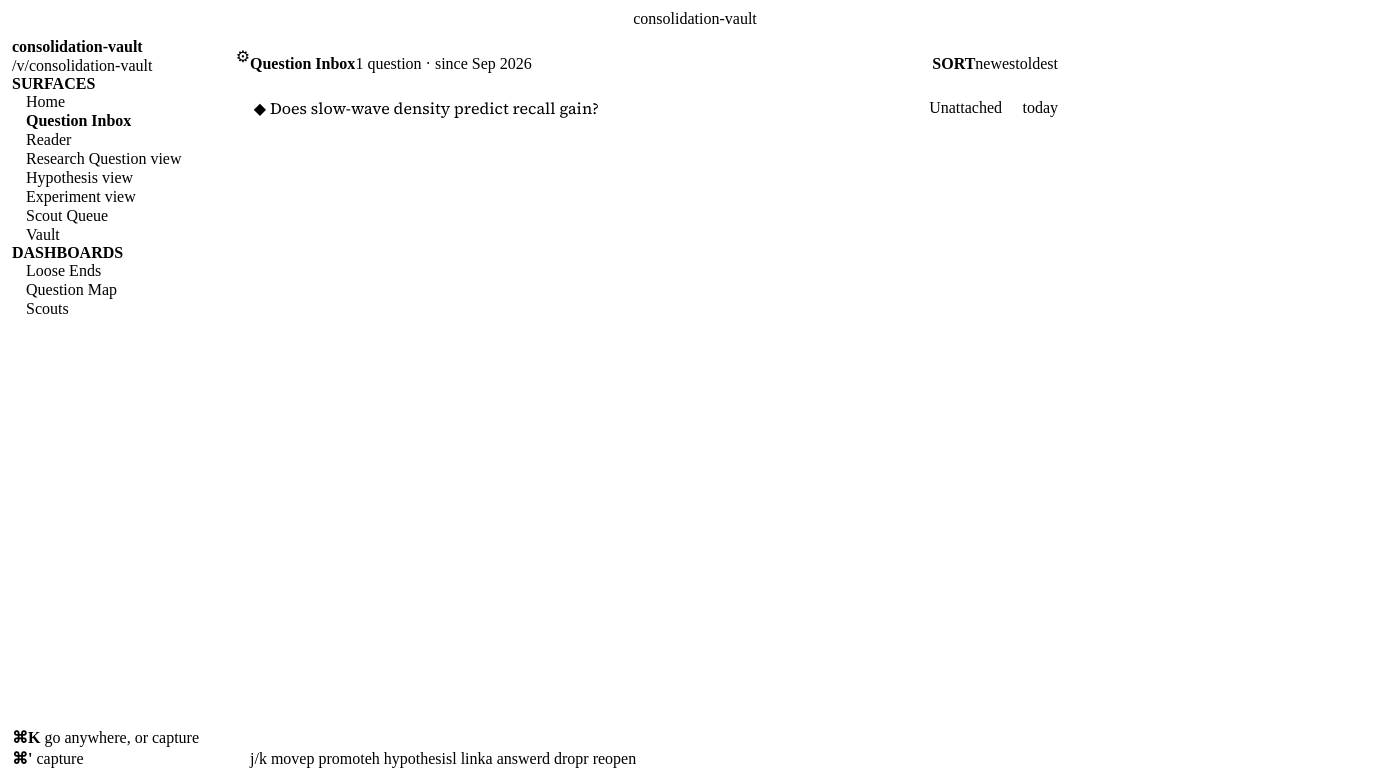
Scenario: answer in place › a refused answer shows its reason on the row and keeps the typing
This screenshot has width=1378, height=768.
Click the option.
click(434, 108)  # box [250,90,1058,126]
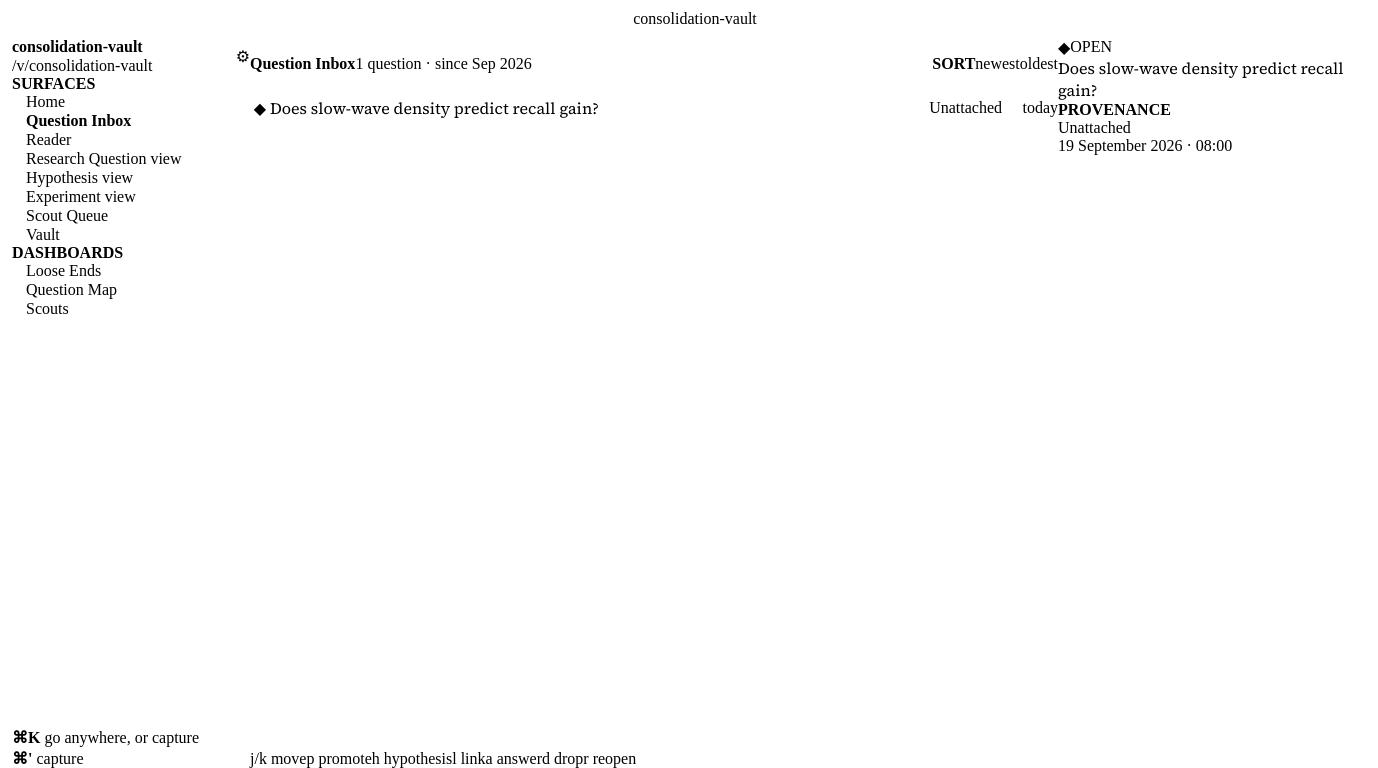
Press a in the list named "Questions", box [254,97,1058,119]
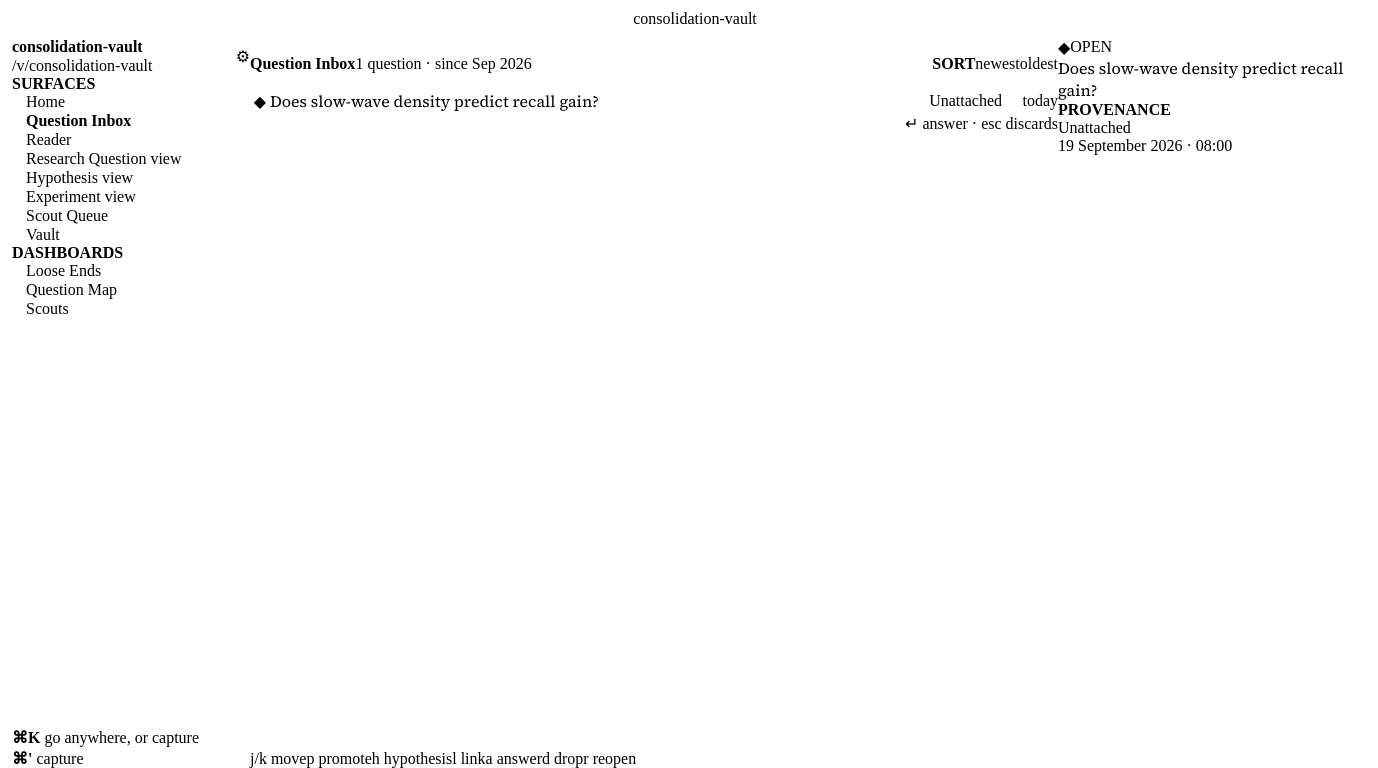
Type "Only above 1.5 Hz, and only in the first cycle." into the field named "Answer".
click(588, 123); type("Only above 1.5 Hz, and only in the first cycle.")  # box [270,112,905,134]
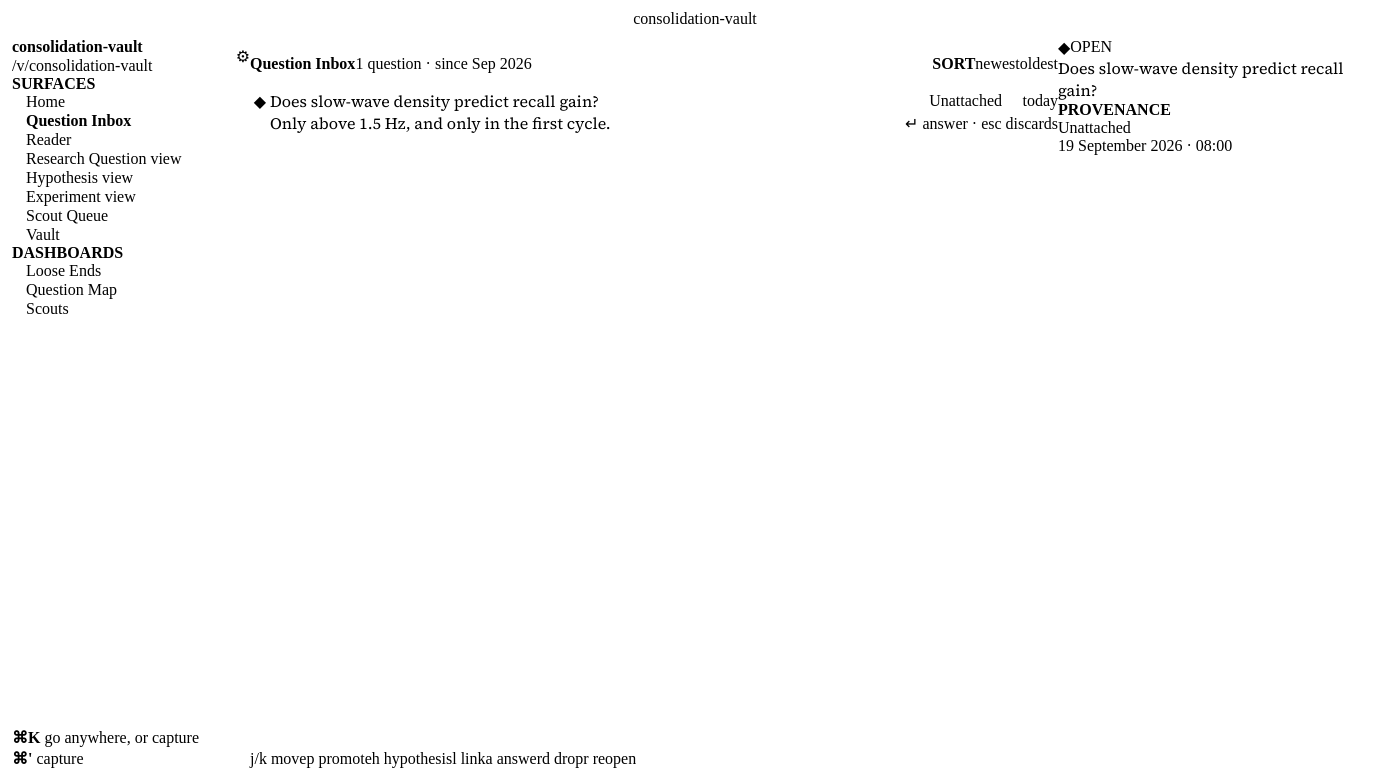
Press Enter in the field named "Answer", box [270,112,905,134]
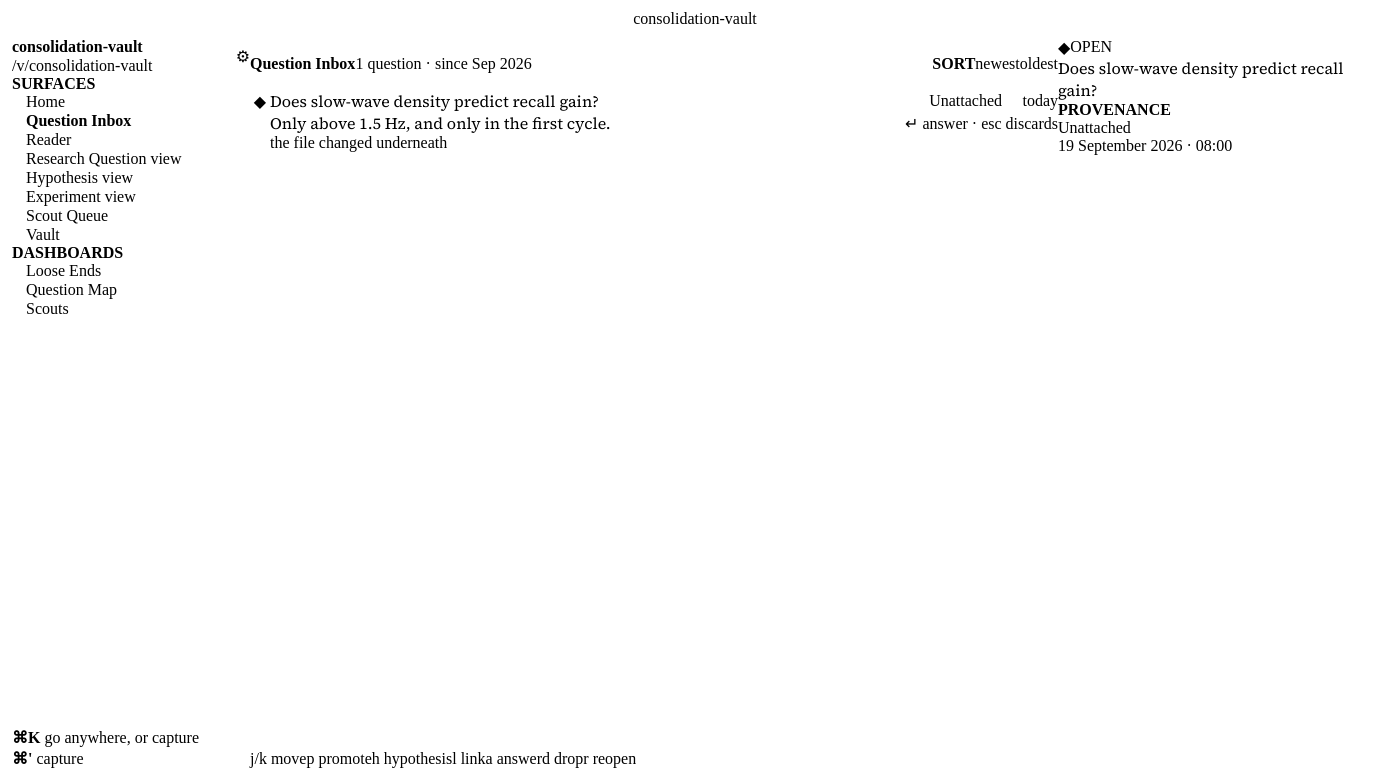
Check: the message reads "the file changed underneath", box [270,134,447,151]
